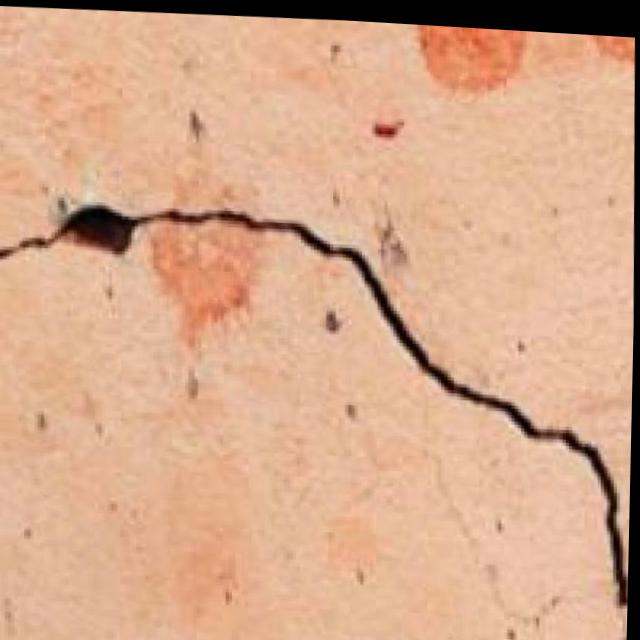Crack: (0, 156, 637, 629)
